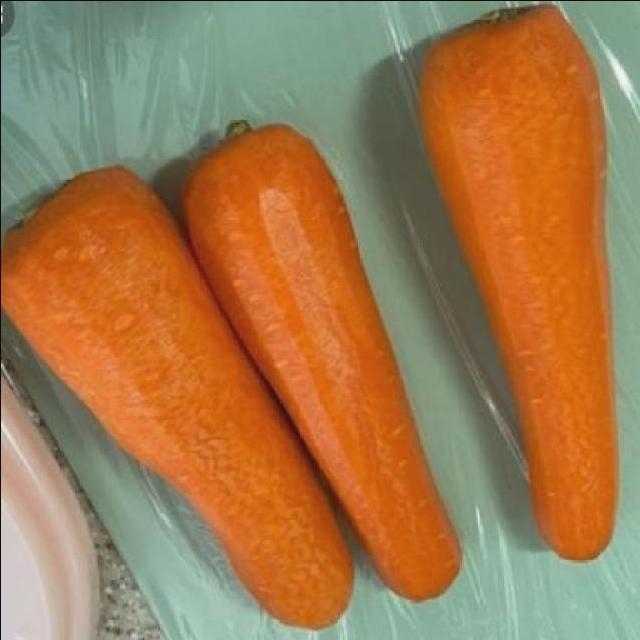carrot: (1, 164, 357, 635), (175, 117, 469, 608), (413, 5, 619, 571)
